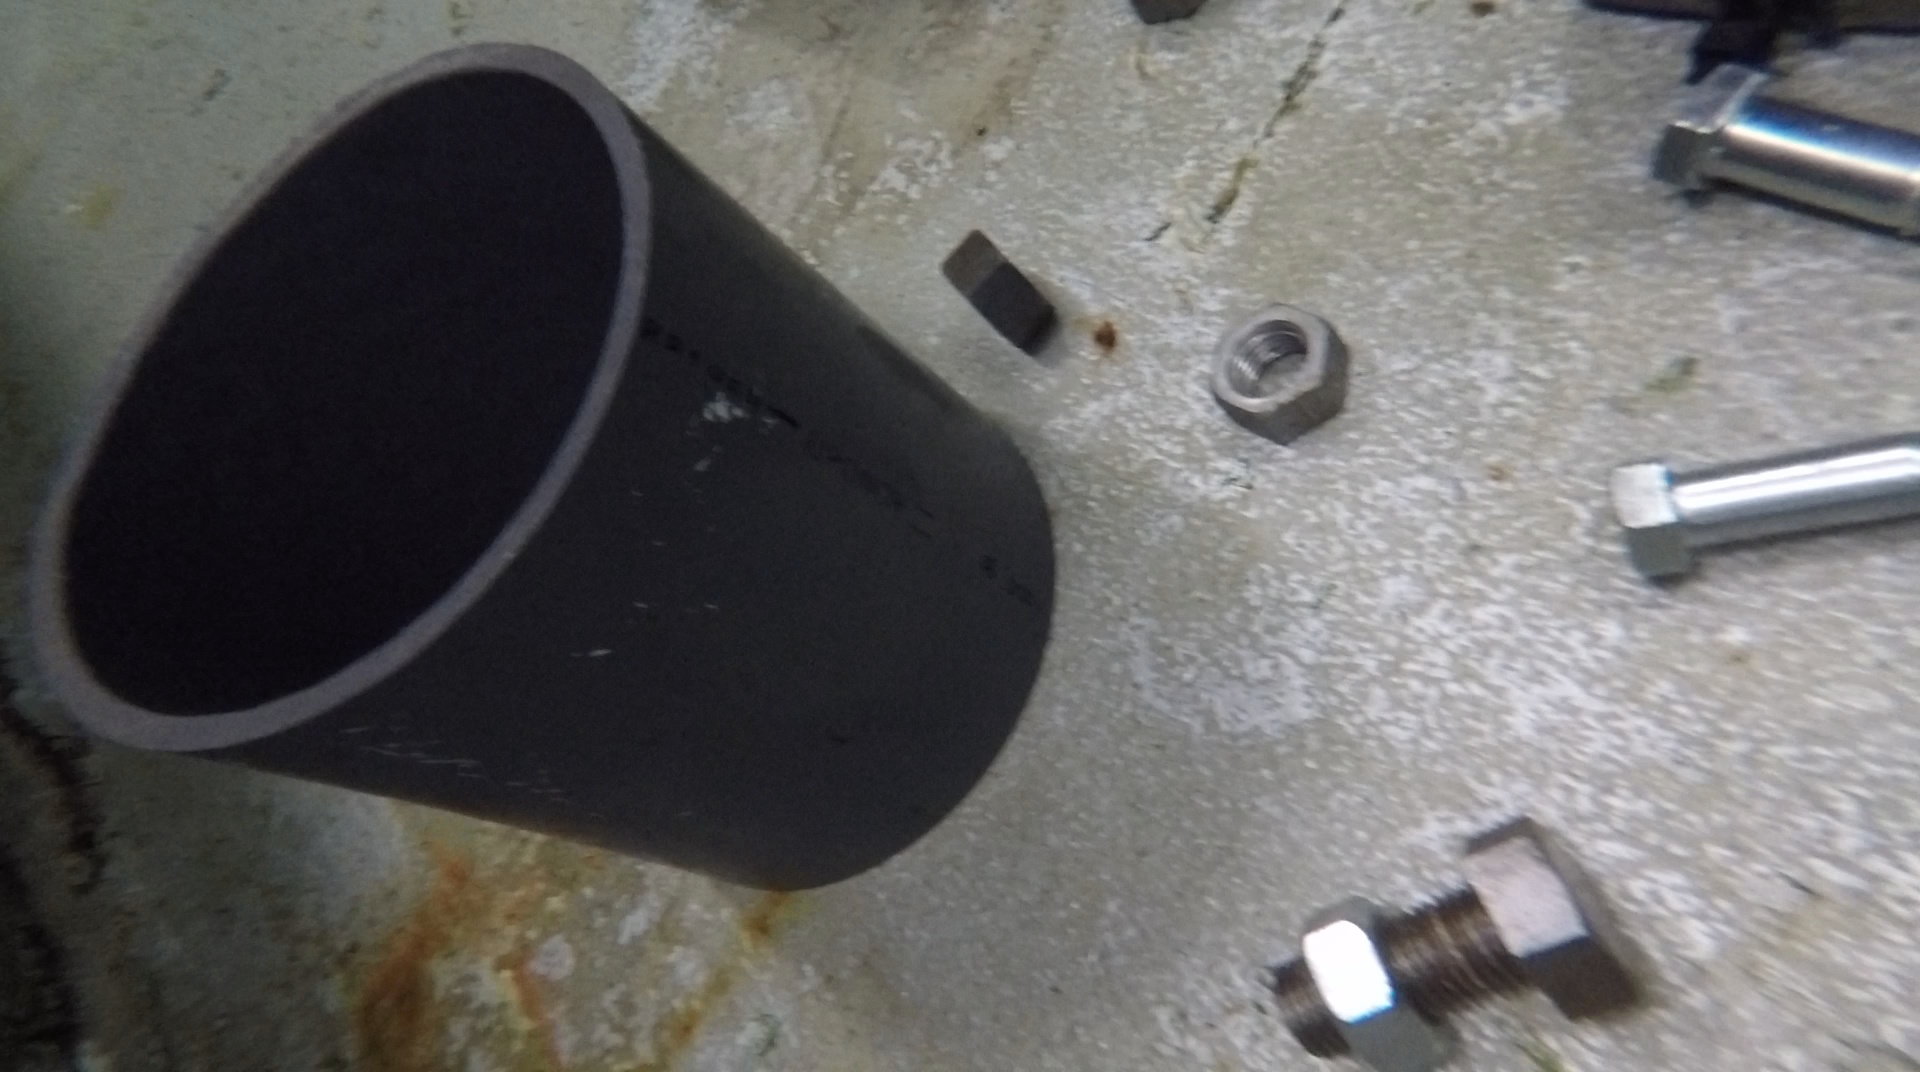bolt: (1276, 811, 1651, 1055), (1651, 55, 1920, 243), (1609, 434, 1920, 580)
nut: (1296, 895, 1456, 1069), (1211, 305, 1350, 447), (940, 225, 1060, 355)
pipe: (30, 41, 1054, 891)
